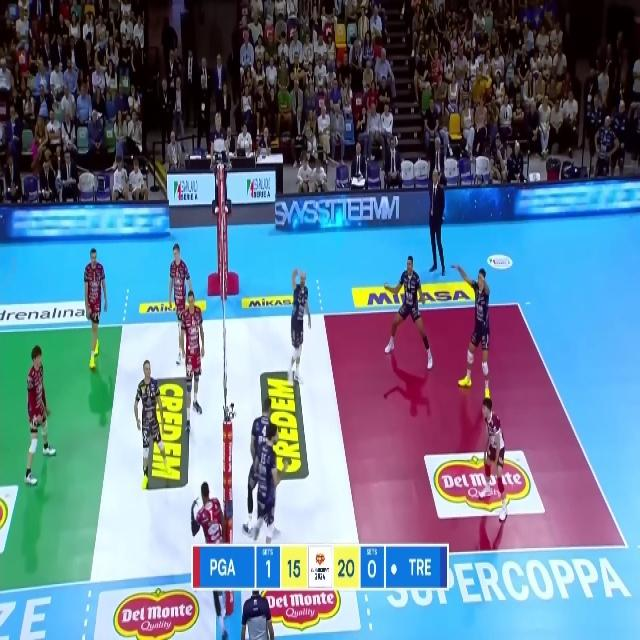volleyball court: (1, 302, 630, 594)
